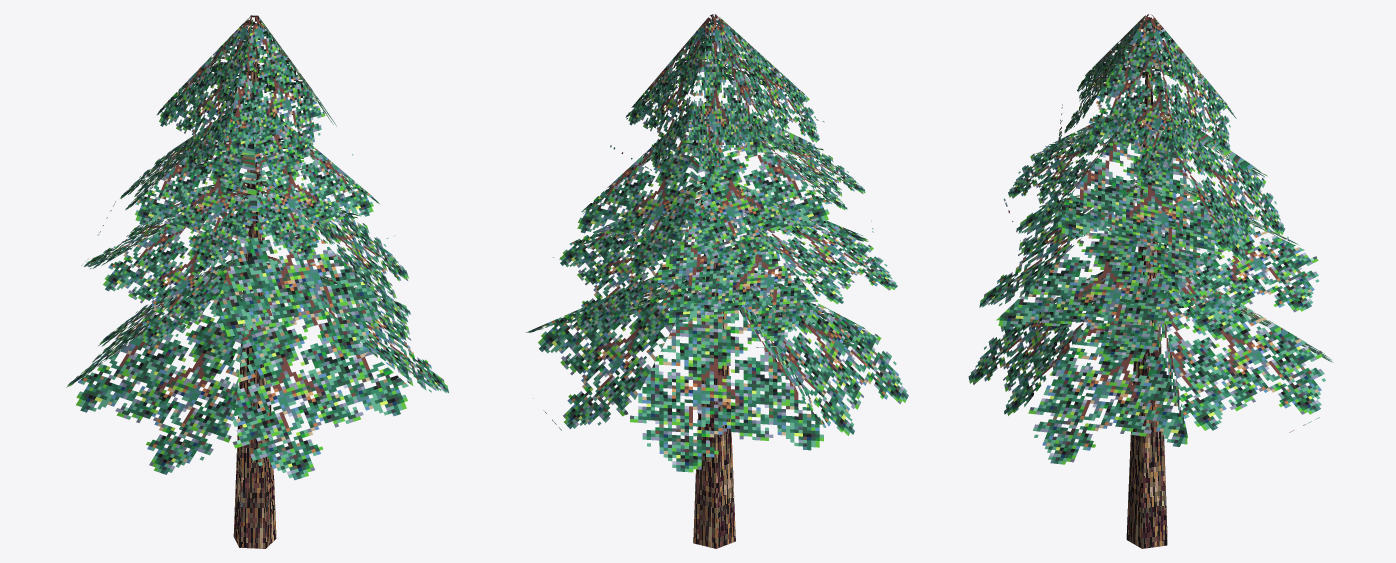
The model's file is pine tree.glb.
3 views of the same model, side by side, from view 1: azimuth 30°, elevation 25°; view 2: azimuth 150°, elevation 25°; view 3: azimuth 270°, elevation 25° (orthographic).
Parts seen in each view (by area): view 1: PineTree; view 2: PineTree; view 3: PineTree.
Boxes of the visible parts, bbox=[...] form: PineTree: bbox=[66, 15, 448, 548]; PineTree: bbox=[525, 14, 908, 548]; PineTree: bbox=[968, 14, 1333, 548].
Size of the model in its own units: 6.55 by 8.23 by 5.99.
2 materials, 2 textured.
